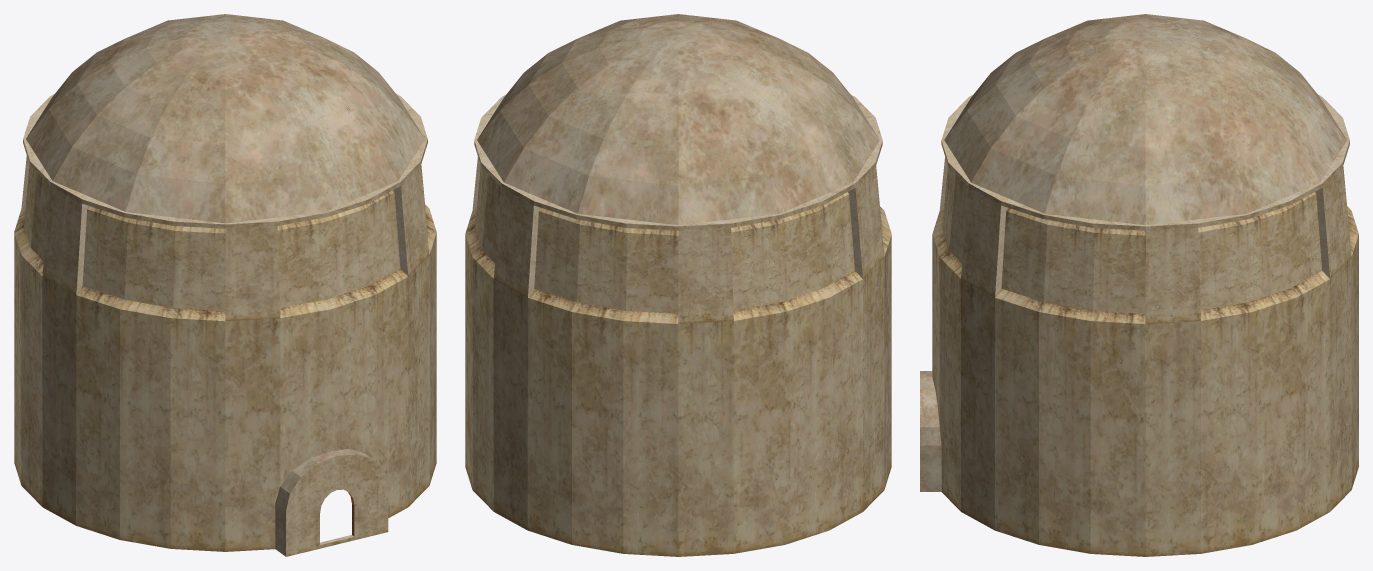
Rendered from thm_tato_imprv_building_s08_r0_mesh_l0.fbx.
3 views of the same model, side by side, from view 1: azimuth 30°, elevation 25°; view 2: azimuth 150°, elevation 25°; view 3: azimuth 270°, elevation 25° (orthographic).
Parts seen in each view (by area): view 1: mesh_node; view 2: mesh_node; view 3: mesh_node.
Boxes of the visible parts, bbox=[...] form: mesh_node: bbox=[14, 14, 436, 556]; mesh_node: bbox=[465, 14, 891, 556]; mesh_node: bbox=[920, 14, 1358, 556].
Bounding box in the file's own units: 23.13 × 25.85 × 23.8.
